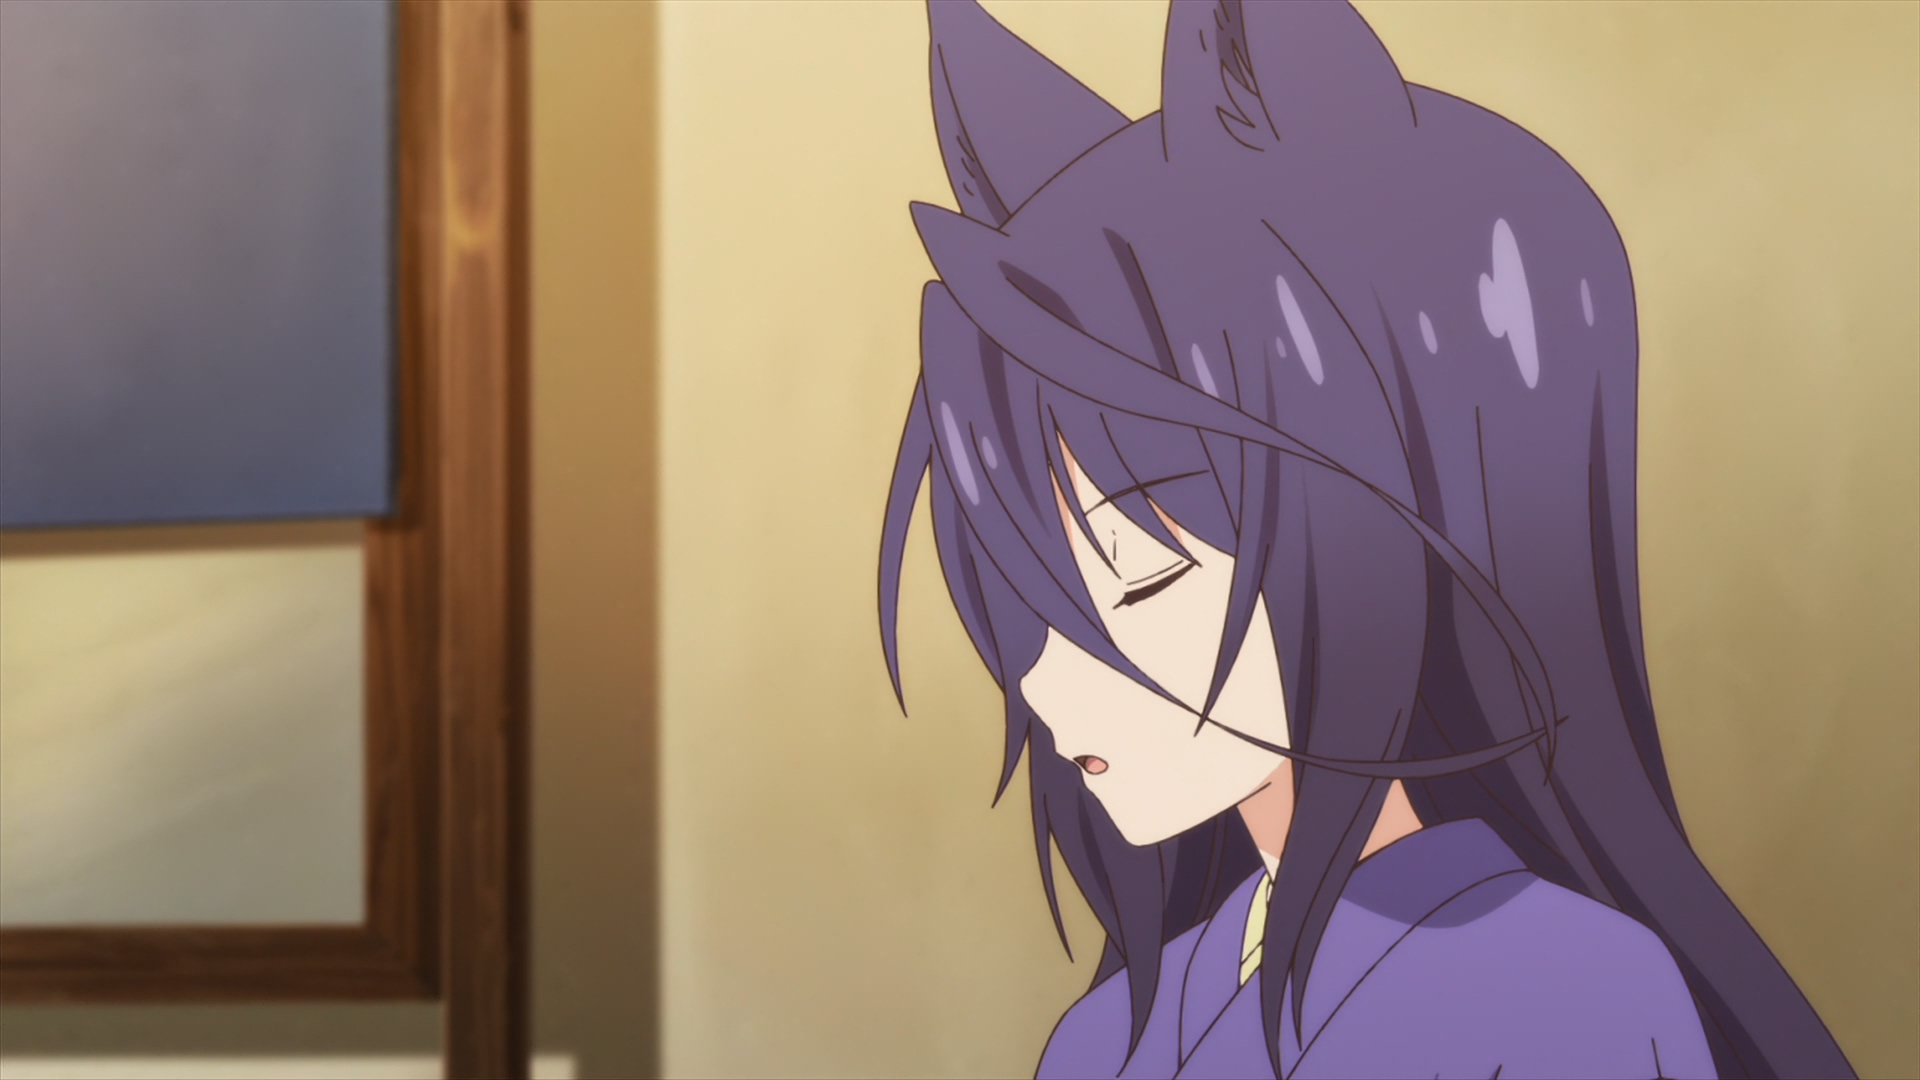皋: (877, 1, 1862, 1080)
